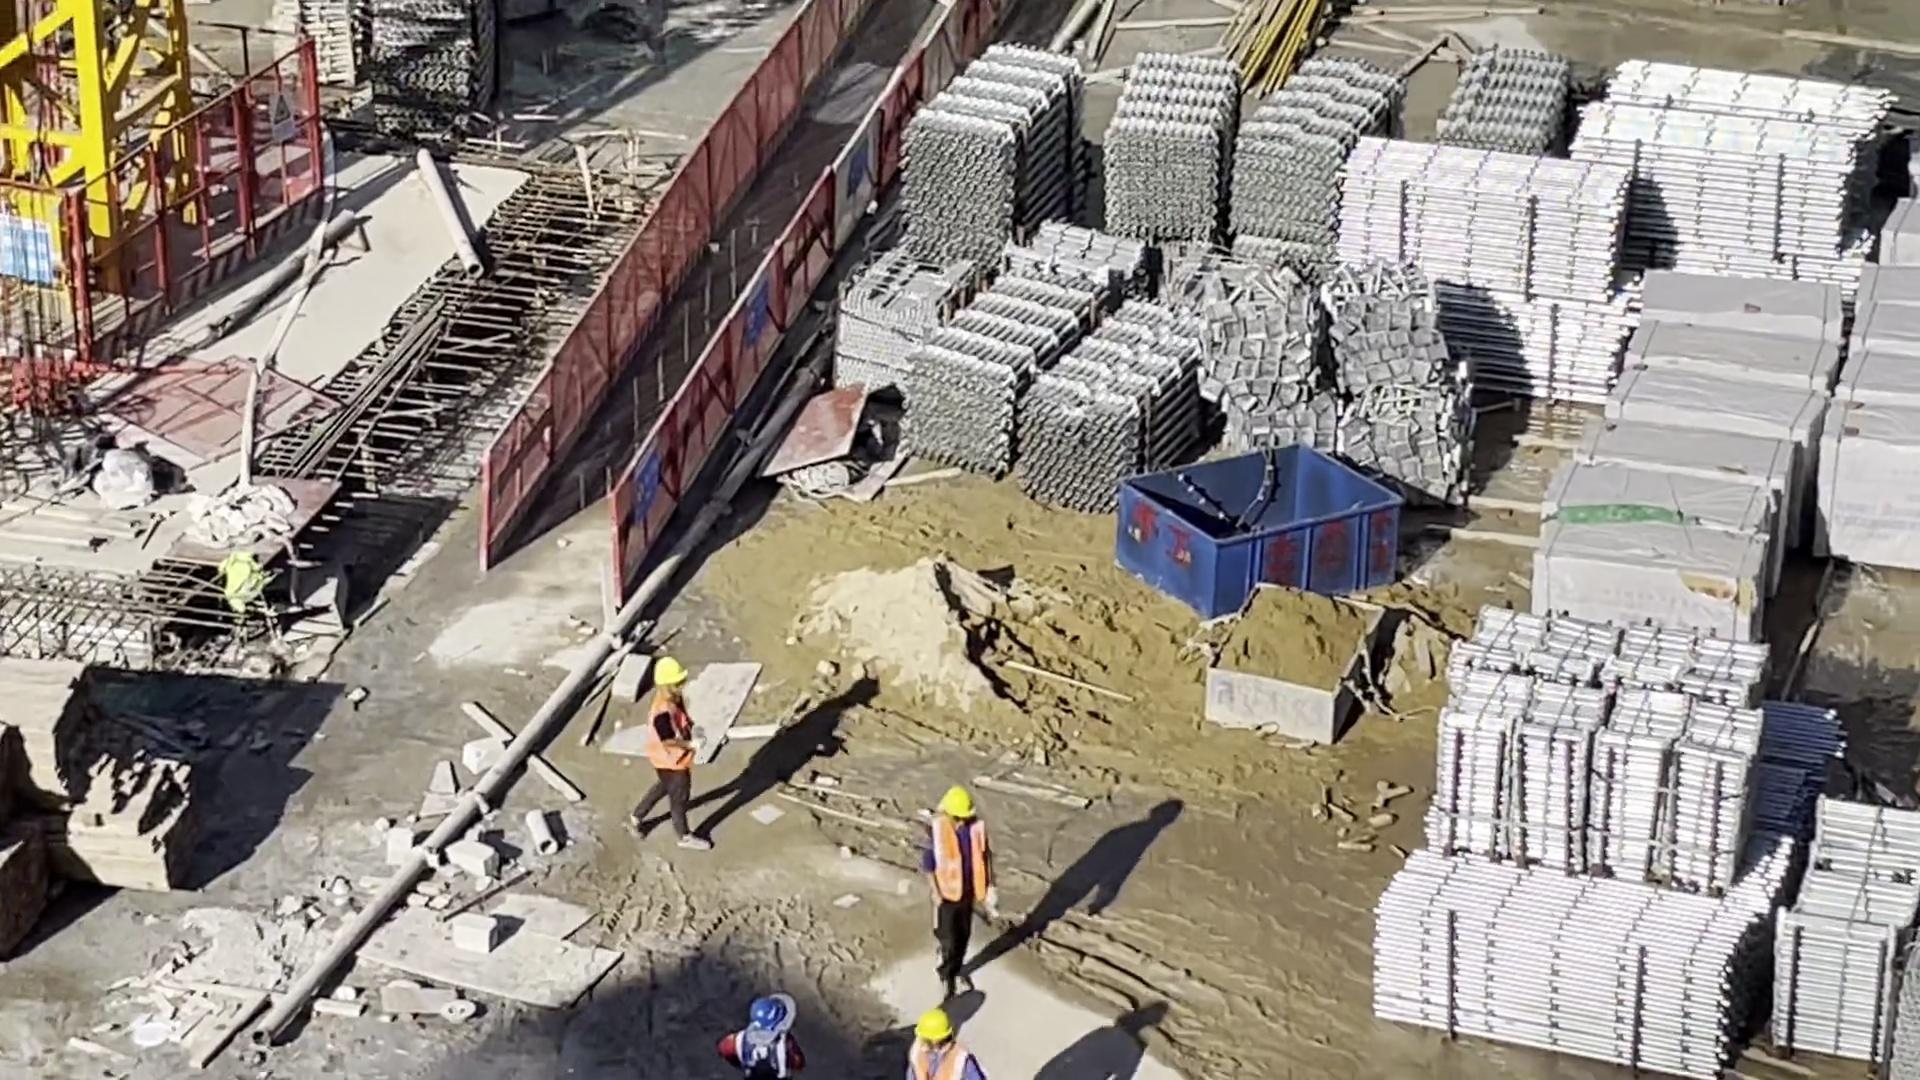fence: (496, 10, 979, 535)
helmet: (750, 996, 786, 1030), (942, 788, 976, 819), (653, 656, 686, 685), (918, 1011, 951, 1038)
hopper: (1119, 446, 1398, 619), (1205, 583, 1388, 747)
person: (933, 787, 994, 1000), (644, 665, 700, 847), (728, 996, 800, 1080), (906, 1016, 981, 1080)
scaffold: (1433, 611, 1766, 895), (1379, 853, 1763, 1074), (1338, 137, 1621, 399), (913, 264, 1213, 508), (1579, 64, 1889, 280), (1113, 50, 1404, 250), (1777, 796, 1920, 1066), (905, 46, 1082, 241), (363, 1, 482, 135), (1444, 46, 1567, 150), (273, 1, 365, 91)
slogan: (2, 218, 52, 280), (631, 438, 662, 516), (743, 274, 769, 351), (269, 91, 293, 142)
vest: (935, 816, 990, 908), (646, 688, 697, 777), (915, 1041, 966, 1080), (744, 1039, 786, 1080)
